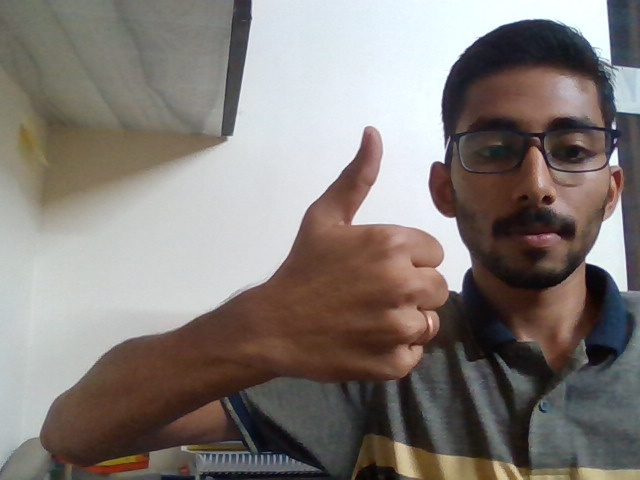Yes: (264, 122, 462, 401)
